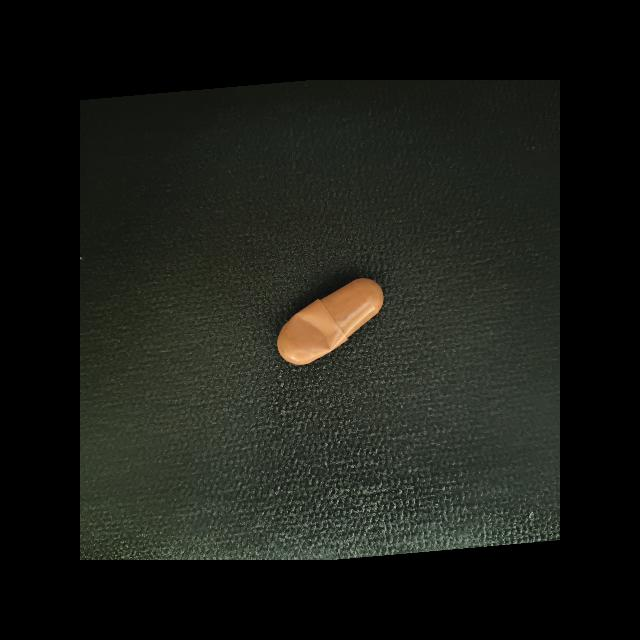Defective Capsule: (292, 313, 339, 351)
